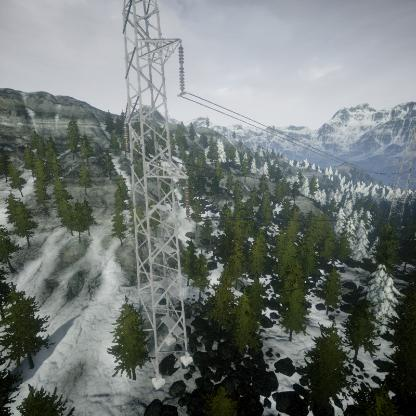insulator: (177, 43, 188, 96)
tower: (117, 0, 196, 392)
